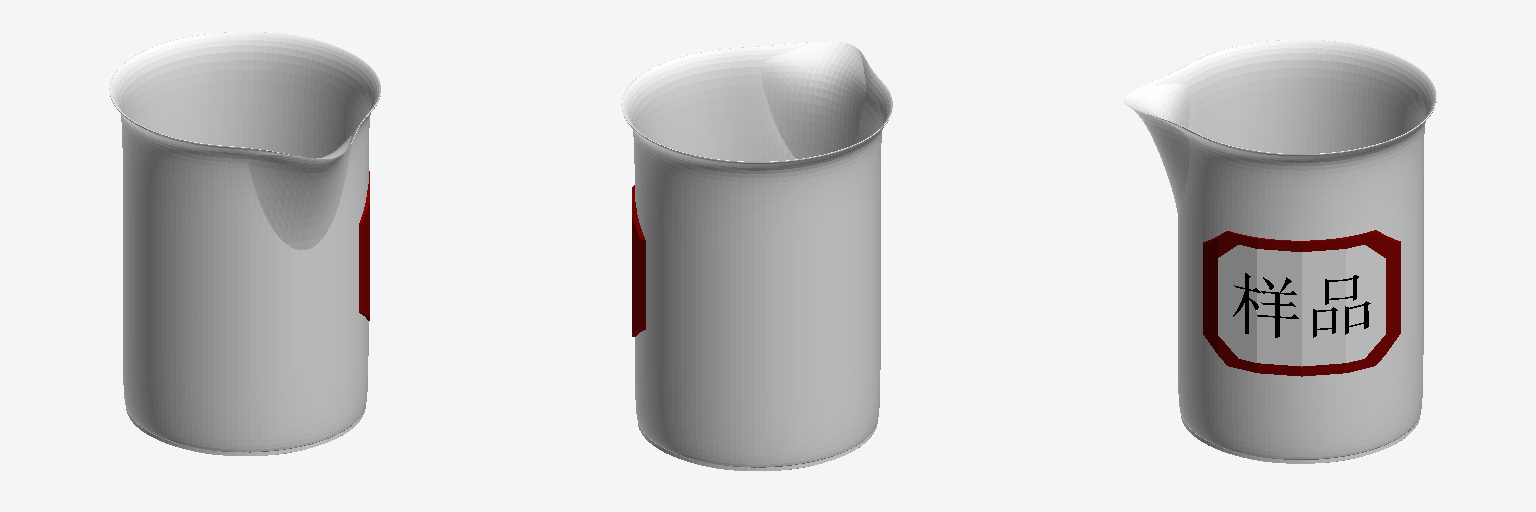
File: beaker.obj
3 renders of one model, left to right at view 1: azimuth 30°, elevation 25°; view 2: azimuth 150°, elevation 25°; view 3: azimuth 270°, elevation 25°, orthographic.
Visible parts, largest first — view 1: beaker, Line006; view 2: beaker, Line006; view 3: beaker, Line005, Line006, Text003.
Boxes of the visible parts, x1,y1,x2,y2 form: beaker: [109, 32, 380, 455]; Line006: [359, 171, 369, 320]; beaker: [621, 42, 892, 470]; Line006: [632, 185, 645, 336]; beaker: [1123, 40, 1436, 463]; Line005: [1218, 245, 1385, 366]; Line006: [1203, 230, 1400, 376]; Text003: [1233, 273, 1370, 337].
Size of the model in its own units: 21.68 by 27.98 by 25.03.